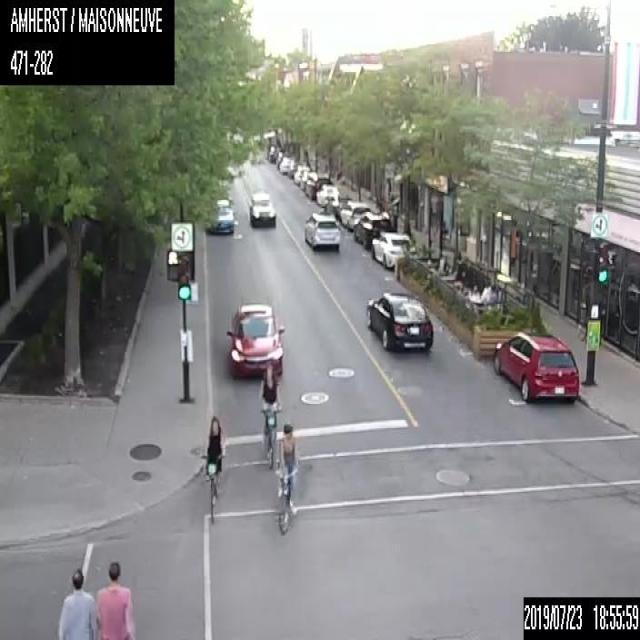cyclist: (257, 363, 283, 472), (275, 420, 301, 529), (202, 415, 224, 521)
pedestrian: (56, 560, 97, 639), (95, 561, 136, 639)
vehicle: (493, 329, 579, 402), (227, 299, 284, 374), (364, 288, 432, 348), (372, 230, 417, 268), (352, 210, 392, 248), (304, 210, 340, 248), (246, 189, 276, 227), (206, 200, 234, 232), (340, 200, 370, 228), (304, 172, 332, 201), (323, 194, 351, 214), (316, 184, 339, 206), (294, 163, 311, 184), (278, 157, 294, 172), (300, 171, 314, 188), (288, 161, 302, 176)
